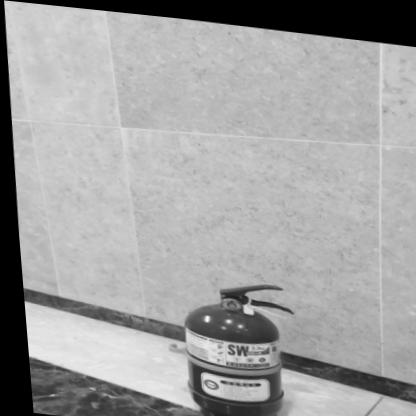FE: (173, 270, 297, 416)
